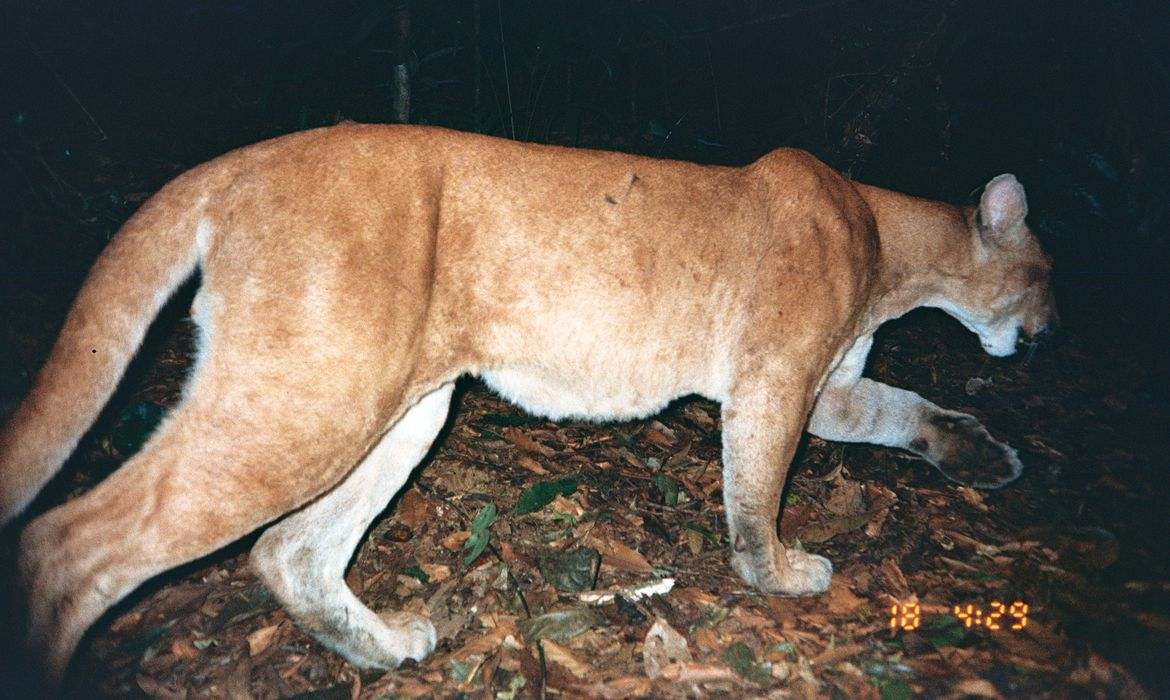OncaParda: (22, 111, 1064, 672)
